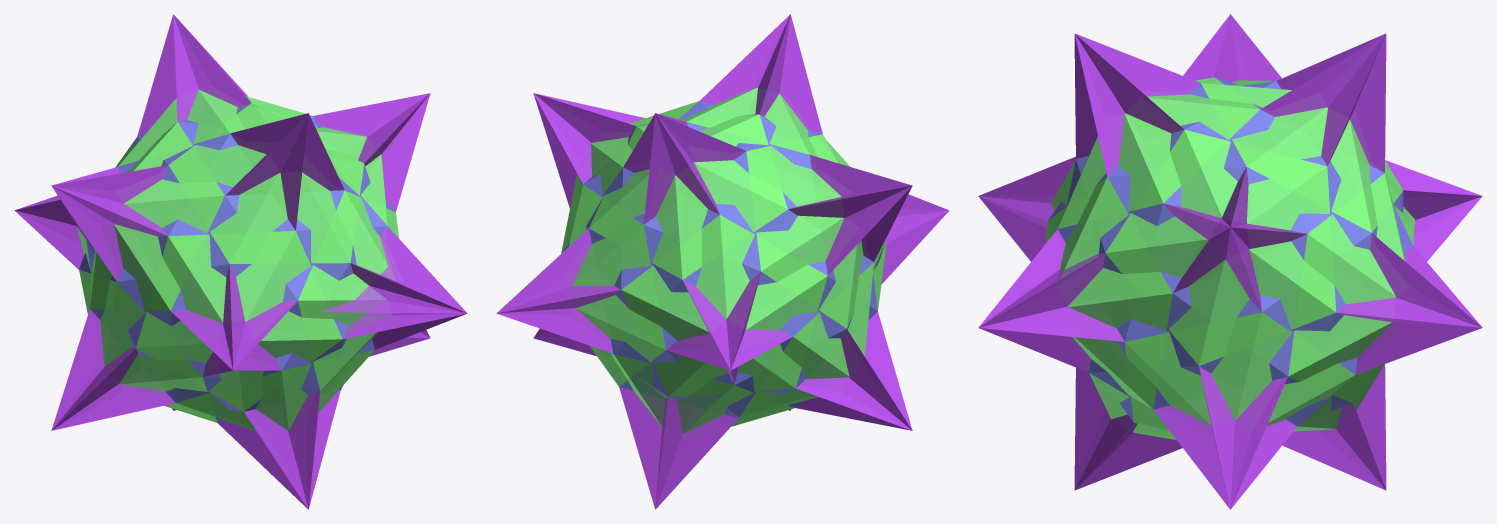
The model's file is 49_Dodekaugmented_Sd.obj.
3 renders of one model, left to right at view 1: azimuth 30°, elevation 25°; view 2: azimuth 150°, elevation 25°; view 3: azimuth 270°, elevation 25°, orthographic. The views are drawn at different scales.
Bounding box in the file's own units: 3.42 × 3.42 × 3.42.
